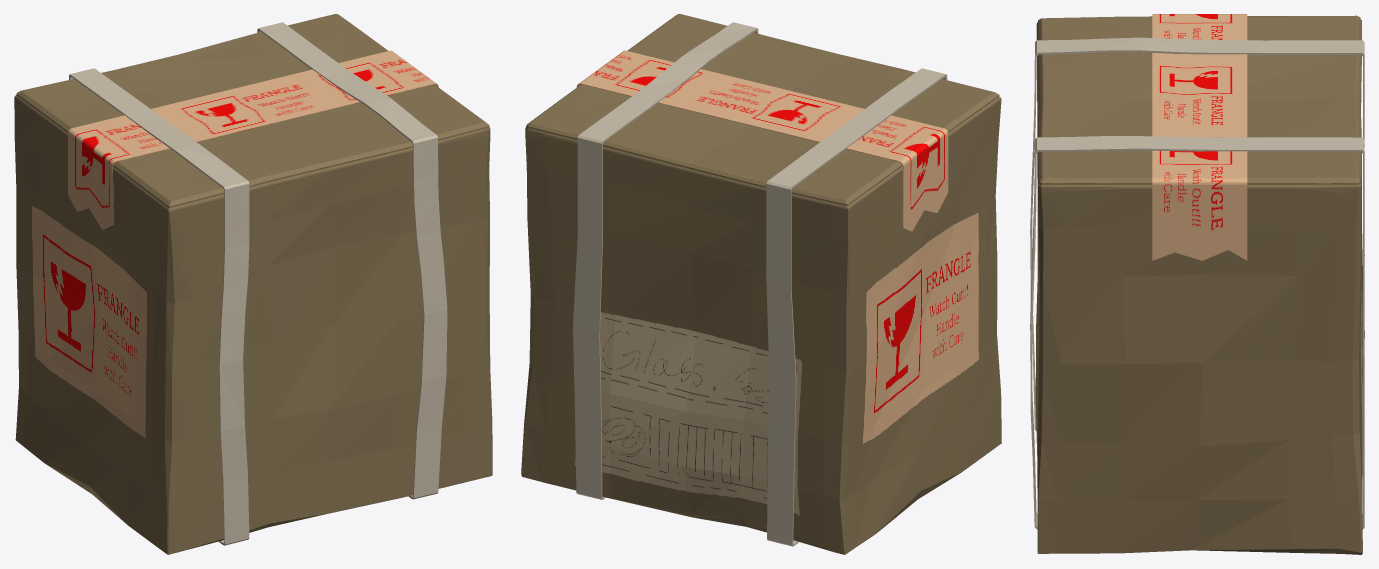
The picture shows the model from 3 angles, left to right: view 1: azimuth 30°, elevation 25°; view 2: azimuth 150°, elevation 25°; view 3: azimuth 270°, elevation 25°; orthographic projection. The views are drawn at different scales.
Parts seen in each view (by area): view 1: Cube, Cube_4, Cube_2; view 2: Cube, Cube_4, Cube_2; view 3: Cube, Cube_2, Cube_4.
Boxes of the visible parts, x1=… form: Cube: x1=14, y1=14, x2=492, y2=554; Cube_4: x1=69, y1=22, x2=447, y2=545; Cube_2: x1=68, y1=50, x2=438, y2=229; Cube: x1=521, y1=14, x2=1001, y2=554; Cube_4: x1=573, y1=22, x2=947, y2=546; Cube_2: x1=576, y1=50, x2=948, y2=231; Cube: x1=1035, y1=15, x2=1364, y2=554; Cube_2: x1=1152, y1=14, x2=1247, y2=260; Cube_4: x1=1030, y1=37, x2=1364, y2=529.
Bounding box in the file's own units: 249 × 260 × 206.
3 materials, 3 textured.
